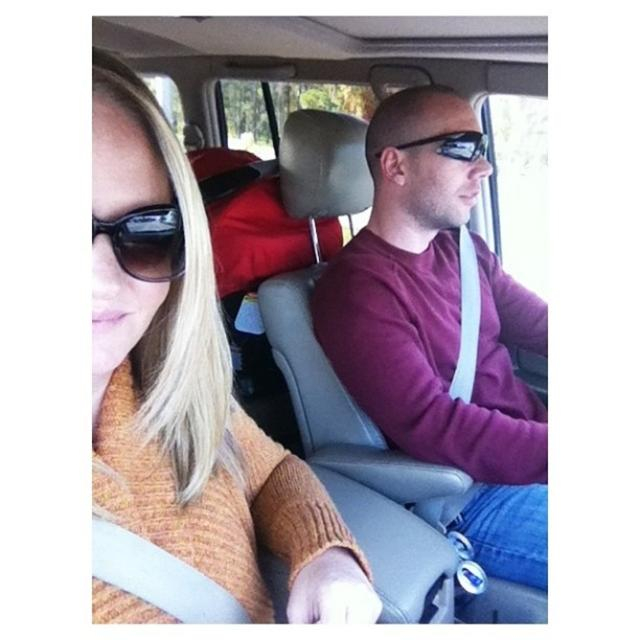Seatbelt: (78, 510, 246, 628), (447, 228, 478, 404)
